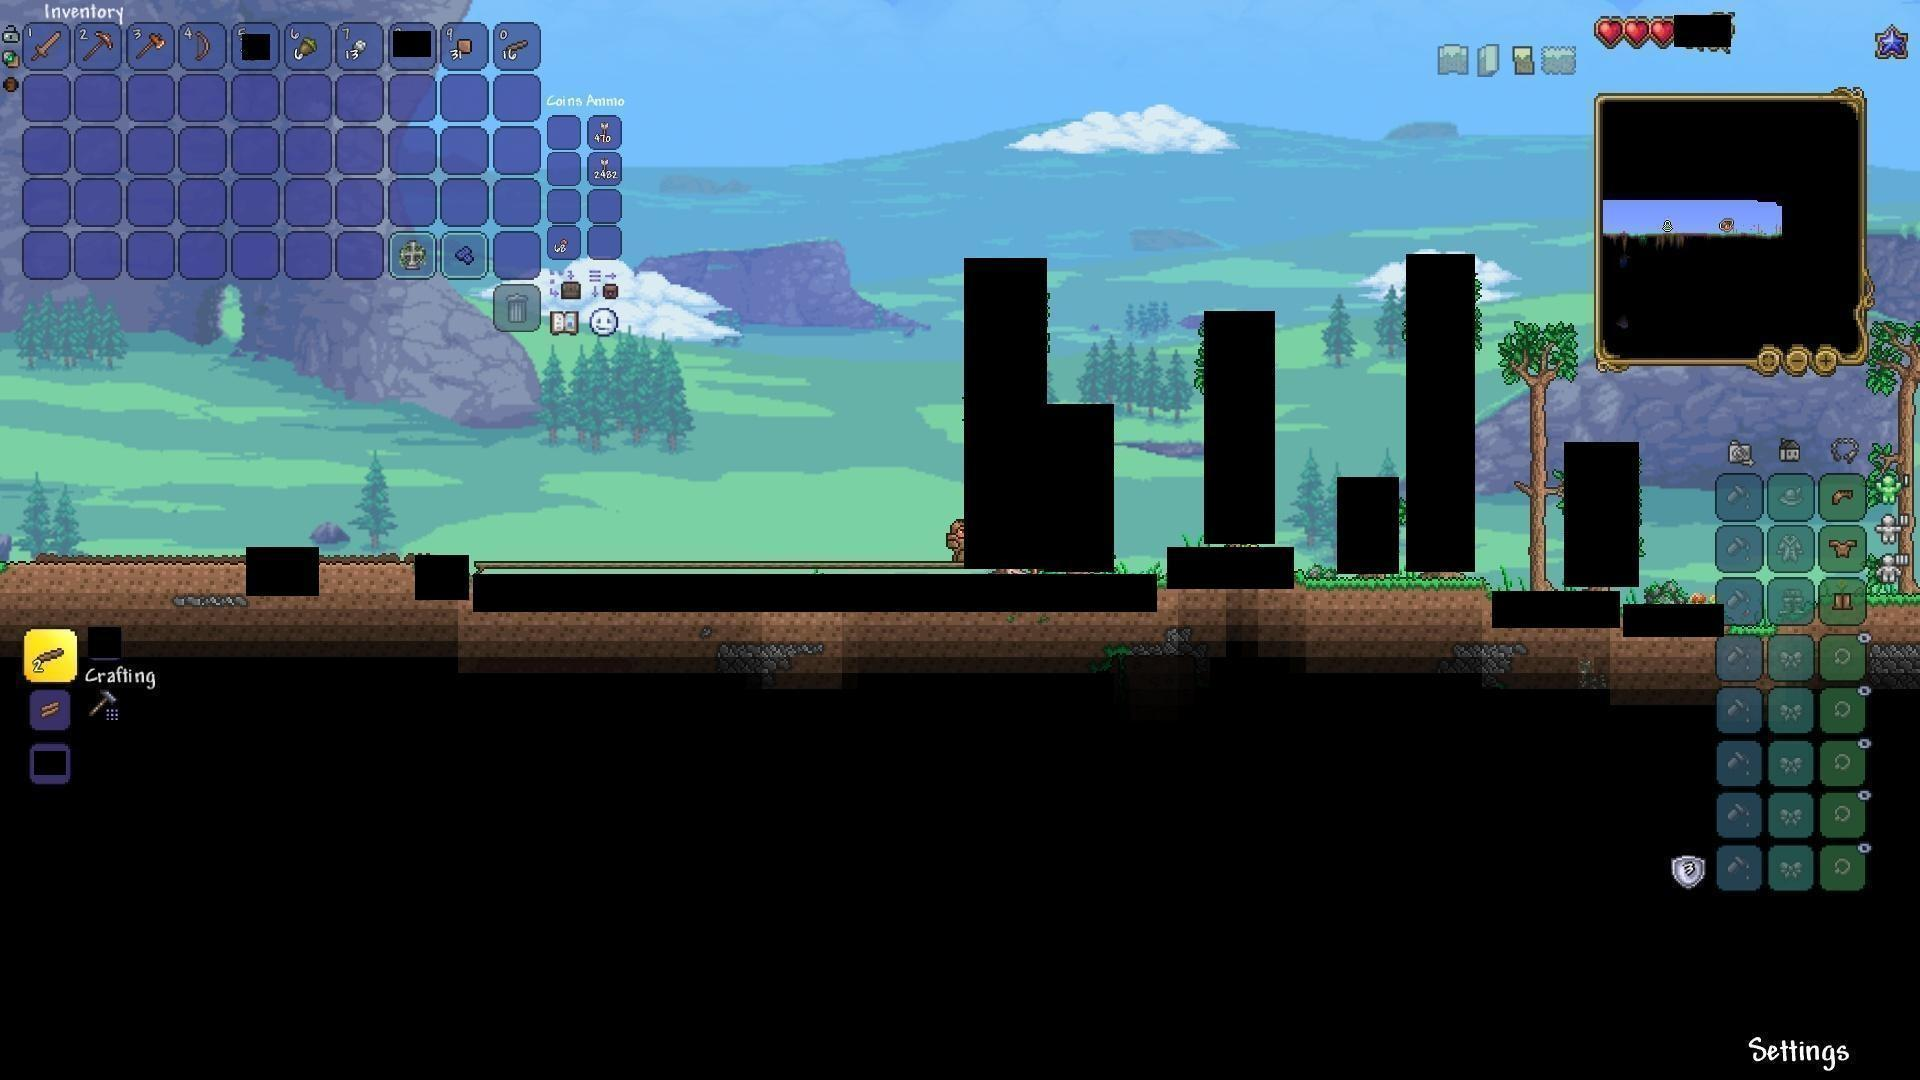breastplate: (1828, 537, 1857, 556)
dirt: (1300, 576, 1491, 615), (1866, 591, 1920, 632)
heart: (1596, 15, 1625, 44), (1648, 17, 1676, 46), (1625, 17, 1651, 46)
helmet: (1826, 483, 1859, 510)
legs: (1832, 587, 1855, 616)
tree: (1502, 318, 1564, 587), (1888, 323, 1919, 588)
wood: (37, 696, 65, 721)
